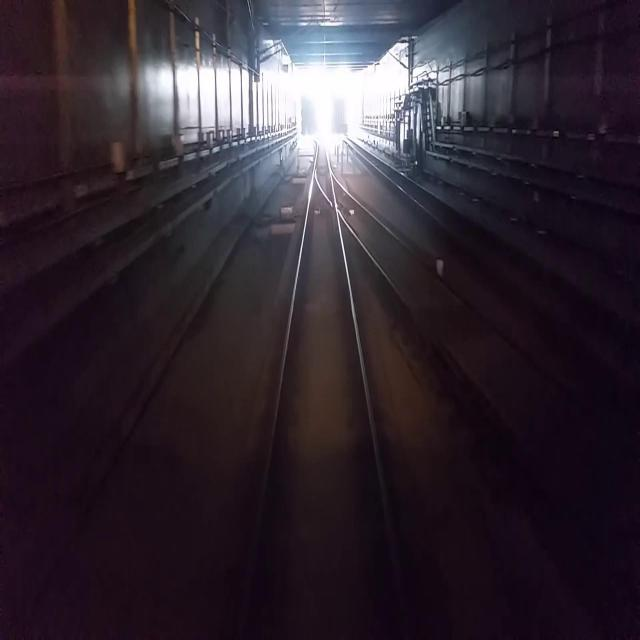rail-track: (243, 139, 405, 639), (339, 135, 640, 389)
